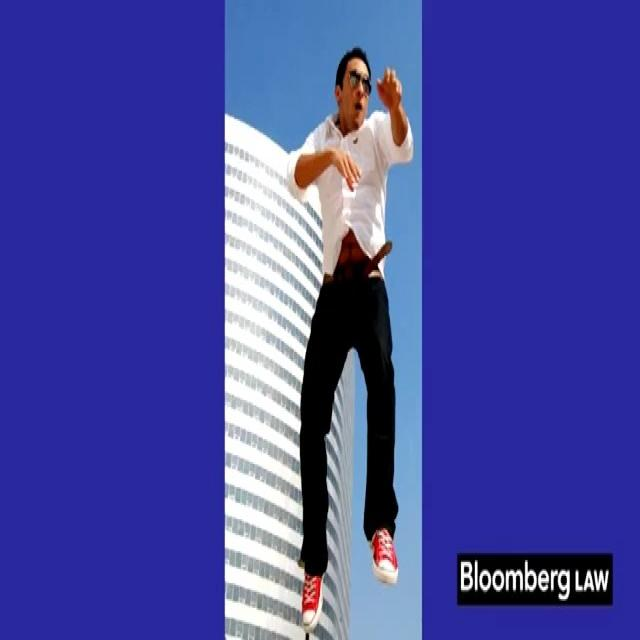Shirt: (288, 106, 414, 279)
